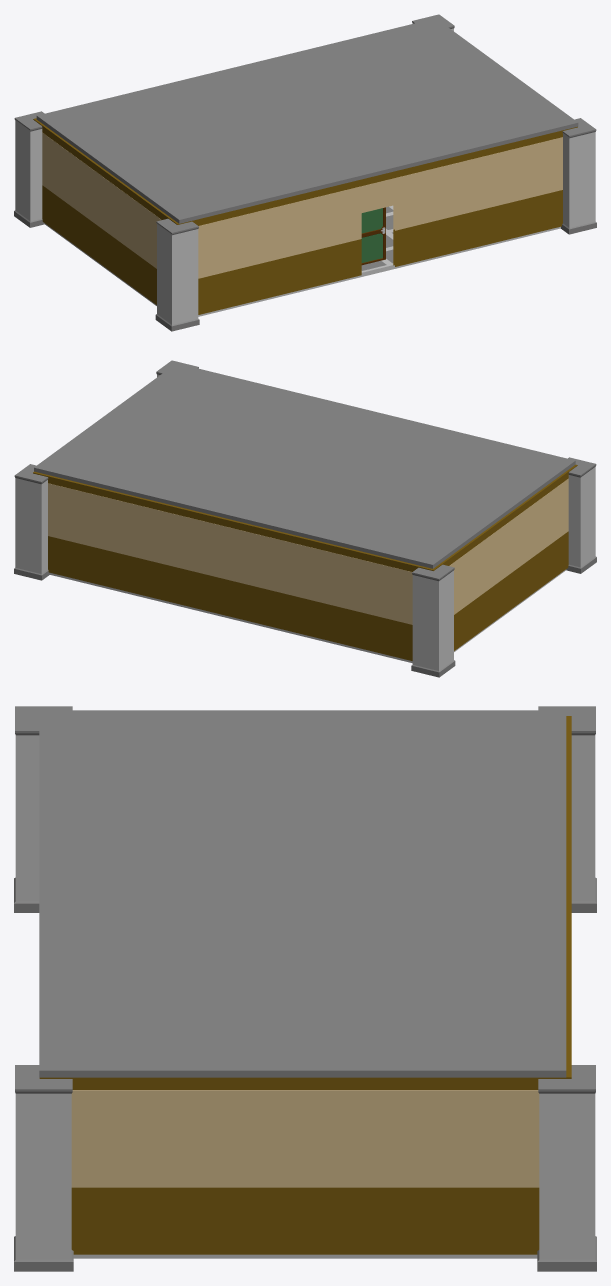
Rendered from Test__Room_01-_ver2.fbx.
The picture shows the model from 3 angles, top to bottom: view 1: azimuth 30°, elevation 25°; view 2: azimuth 150°, elevation 25°; view 3: azimuth 270°, elevation 25°; orthographic projection. The views are drawn at different scales.
Parts seen in each view (by area): view 1: Roof, Wall, Pole, Wall.Upper, Floor, Door; view 2: Roof, Wall, Pole, Wall.Upper, Floor; view 3: Roof, Wall, Pole, Wall.Upper, Floor.
Boxes of the visible parts, box(x1,y1,x2,y2) form: Roof: box(36, 18, 578, 223); Wall: box(42, 132, 562, 314); Pole: box(14, 14, 596, 331); Wall.Upper: box(33, 118, 577, 225); Floor: box(44, 205, 560, 316); Door: box(361, 207, 385, 265); Roof: box(34, 363, 575, 568); Wall: box(48, 478, 568, 660); Pole: box(14, 360, 596, 677); Wall.Upper: box(33, 464, 577, 571); Floor: box(49, 569, 566, 663); Roof: box(39, 710, 566, 1077); Wall: box(71, 1090, 539, 1254); Pole: box(14, 706, 596, 1271); Wall.Upper: box(39, 716, 571, 1089); Floor: box(73, 1254, 537, 1258).
Bounding box in the file's own units: 1619 × 375 × 1040.
